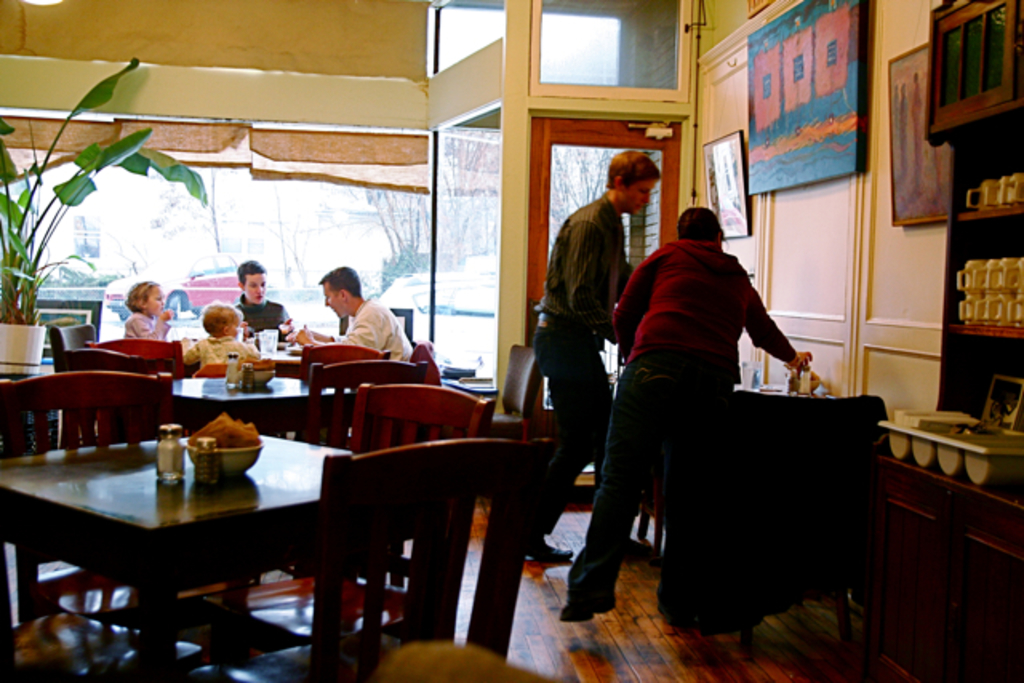Chair: (198, 382, 496, 664), (0, 365, 248, 648), (242, 363, 429, 584), (739, 390, 885, 656), (0, 560, 214, 681), (58, 344, 181, 445), (58, 345, 150, 449), (488, 341, 549, 438), (299, 341, 392, 382), (43, 322, 101, 371), (398, 336, 432, 371)
